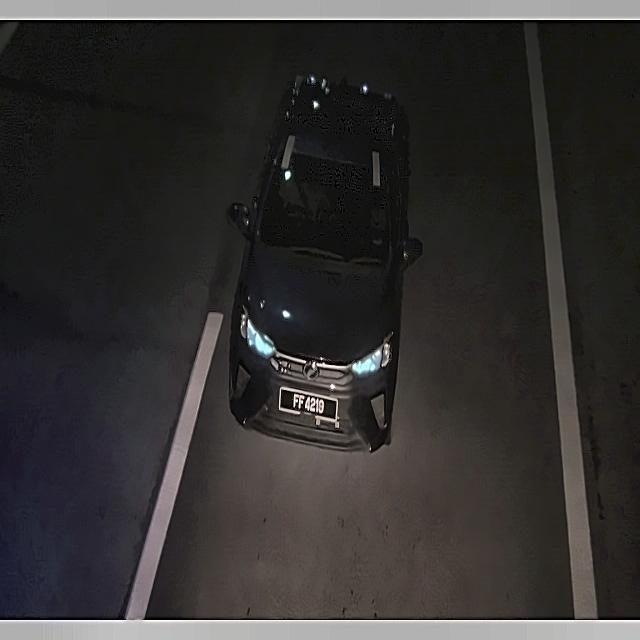car: (278, 378, 341, 431)
